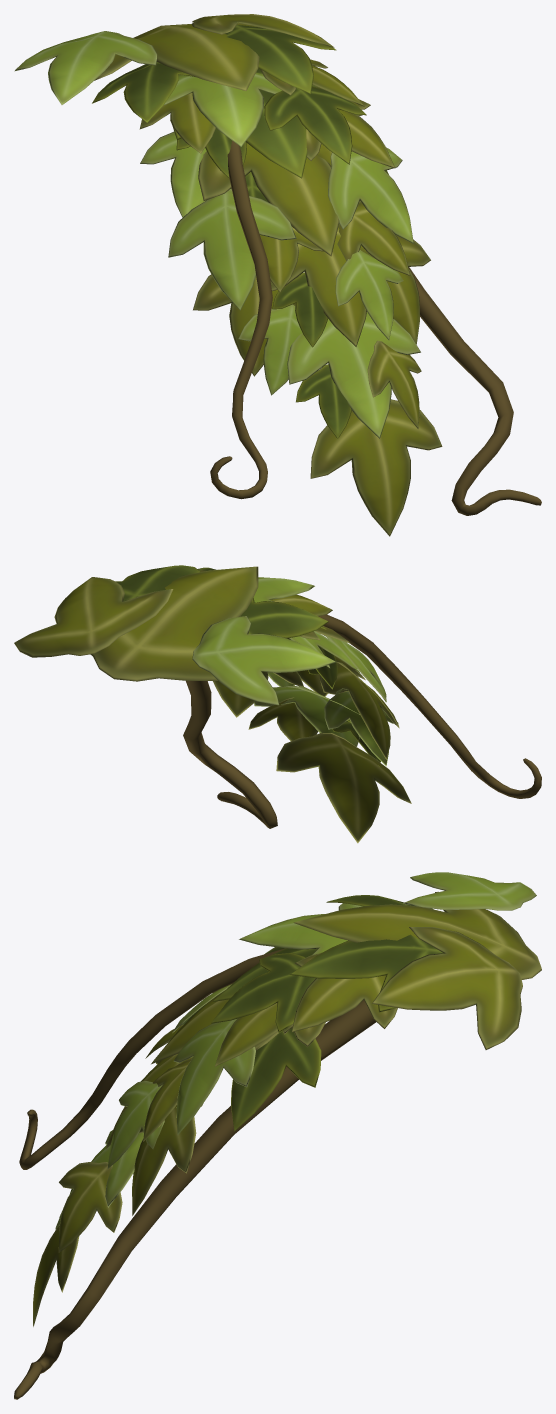
File: Vine.fbx
3 renders of one model, top to bottom at view 1: azimuth 30°, elevation 25°; view 2: azimuth 150°, elevation 25°; view 3: azimuth 270°, elevation 25°, orthographic. The views are drawn at different scales.
Parts seen in each view (by area): view 1: enredaderas; view 2: enredaderas; view 3: enredaderas.
Part boxes in pixels (x1,y1,x2,y2): enredaderas: (14, 14, 541, 536); enredaderas: (14, 565, 541, 843); enredaderas: (14, 872, 541, 1399).
Bounding box in the file's own units: 14.75 × 16.46 × 19.37.
Materials: 4 (3 with a texture image).
